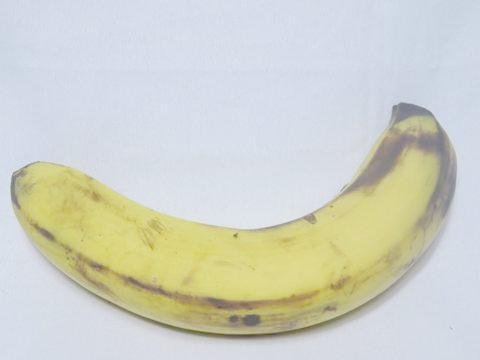ripe: (5, 82, 474, 344)
